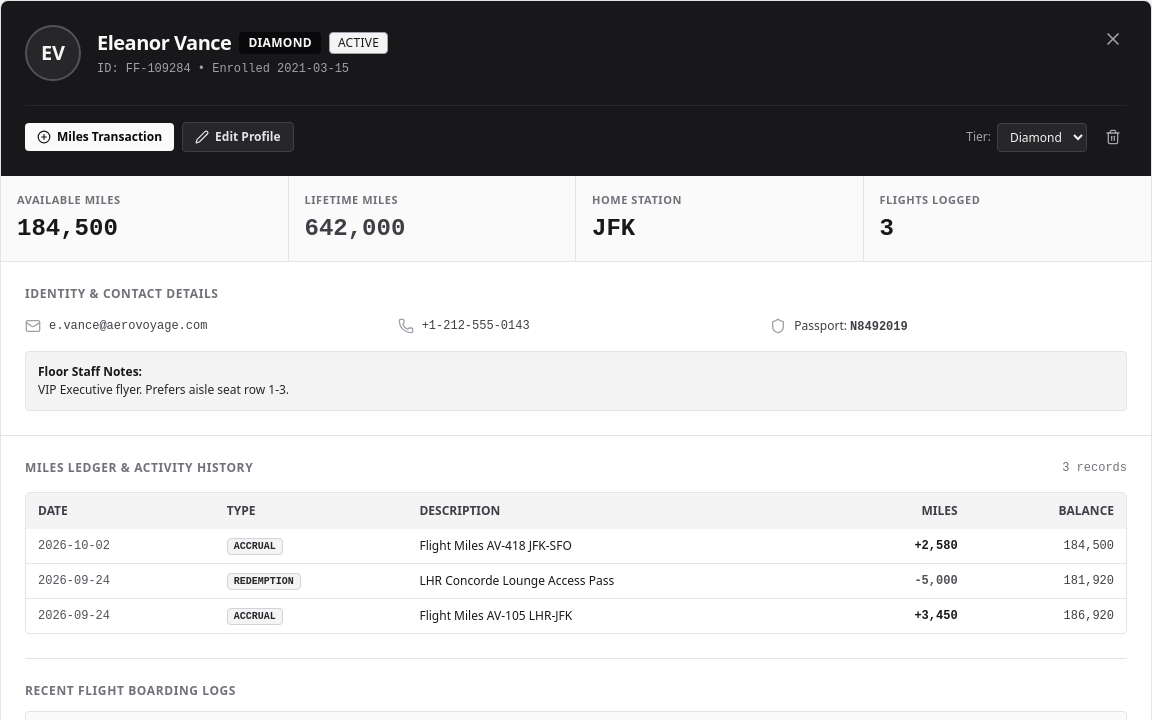
Test case: Miles Transaction Engine (Ledger, Redemption & Accrual) › rejects redemptions exceeding the available balance and highlights the offending field in red
The width and height of the screenshot is (1152, 720).
# Open transaction modal
Click the button with aria-label "add transaction or redeem miles". click: (100, 137)
box: [25, 123, 174, 151]
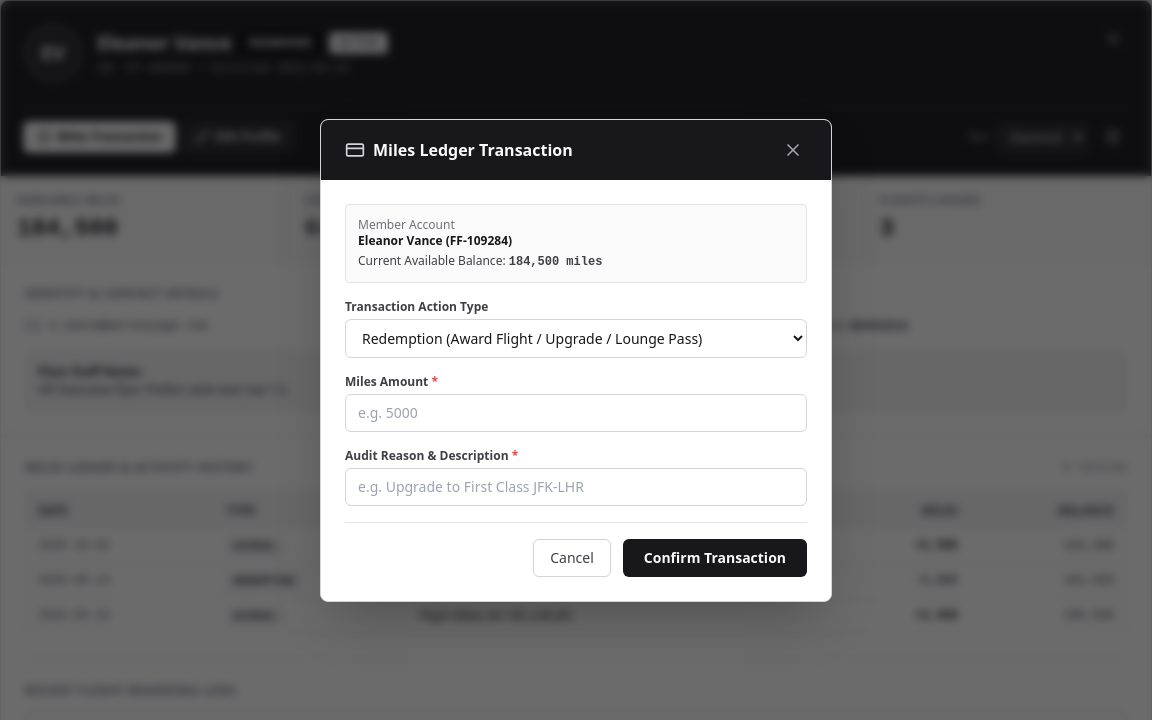
Expected: the dialog "Miles Ledger Transaction" is shown
Type "999999" into the number field labelled "Miles Amount *". click: (576, 412)
box: [345, 394, 807, 432]
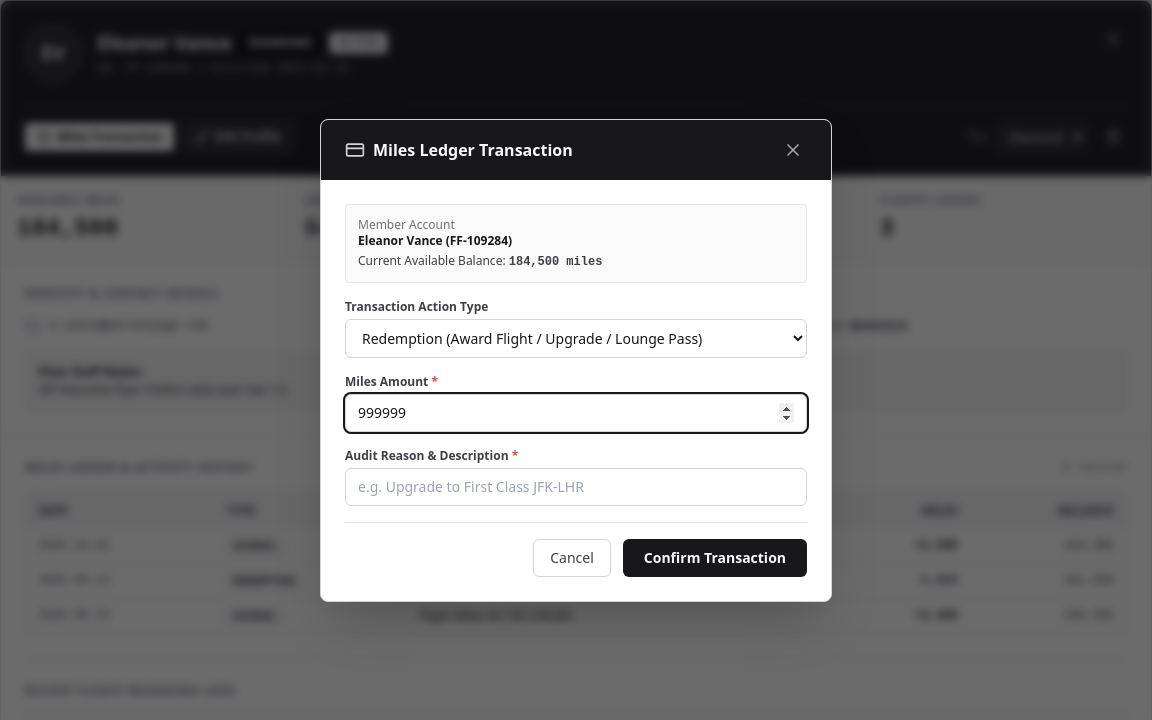
Type "Concorde Charter Reward" into the field labelled "Audit Reason & Description *". click: (576, 486)
box: [345, 468, 807, 506]
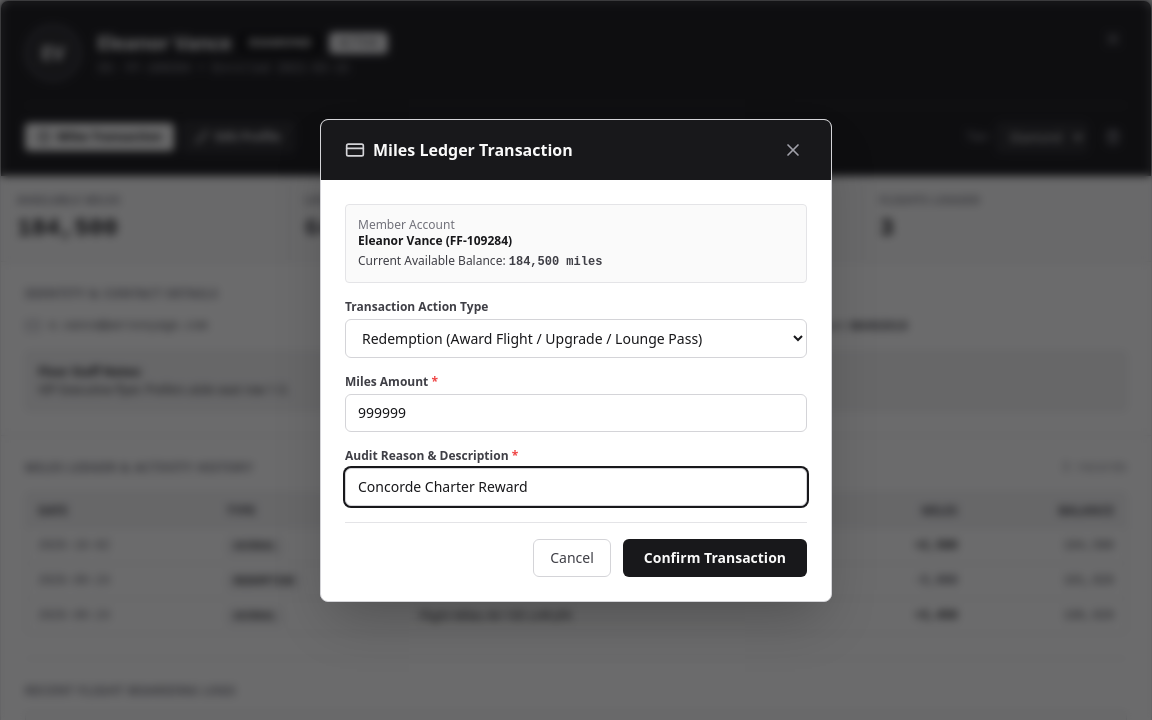
Click the button with aria-label "confirm and execute miles ledger transaction". click: (715, 558)
box: [623, 538, 807, 576]
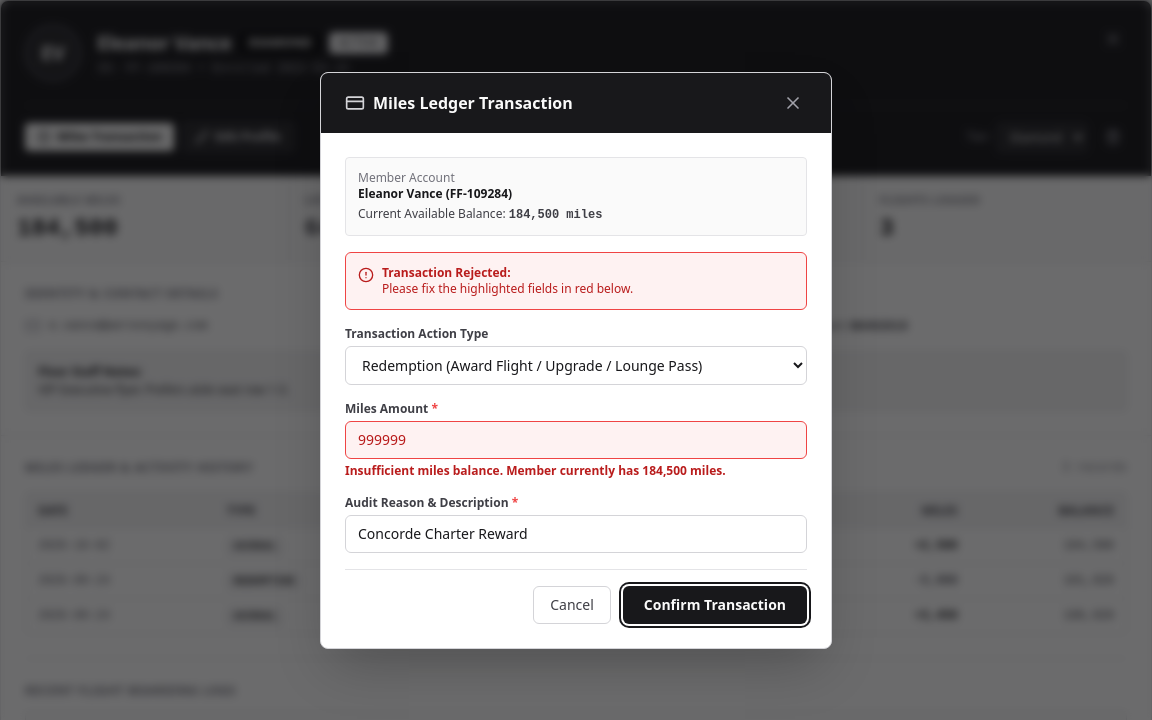
Expected: the text "Insufficient miles balance. Member currently has 184,500 miles." is shown, [345, 462, 726, 478]
